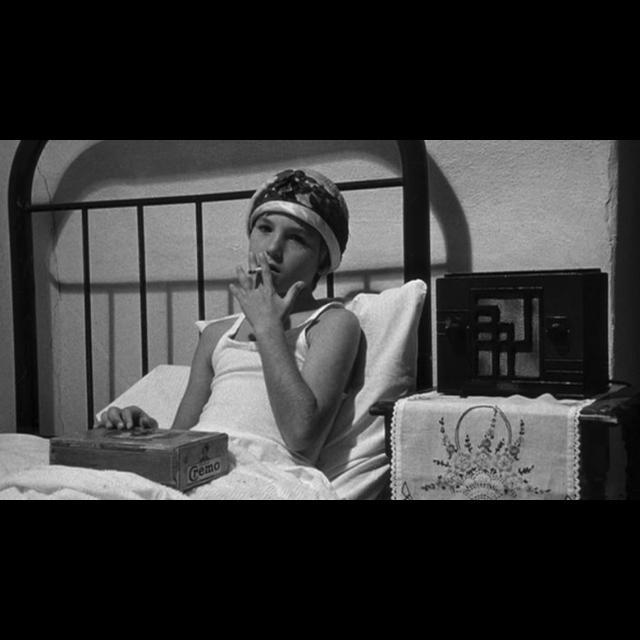rokok: (245, 266, 265, 274)
